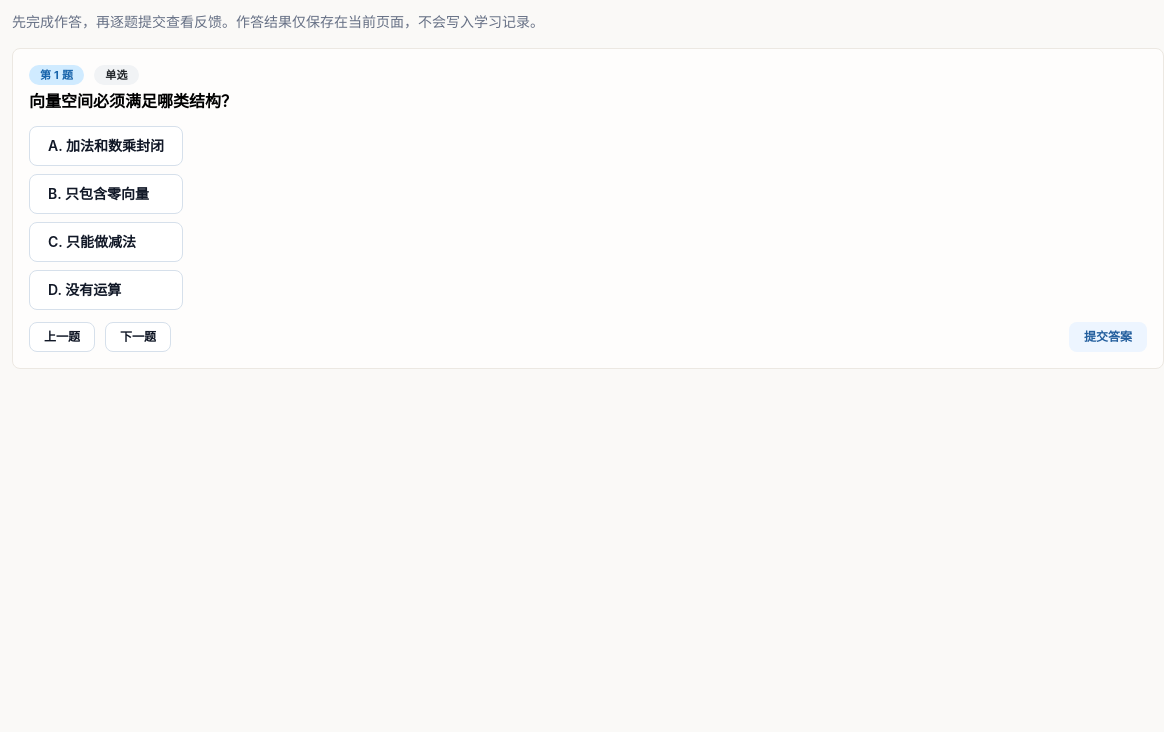
Test: TaskTestResult › hides answers until each question is submitted and scores single choice locally
Expected: the text "正确答案：A" is not shown
Click the button "B. 只包含零向量".
click(106, 194)  # box 29,174 -> 183,214
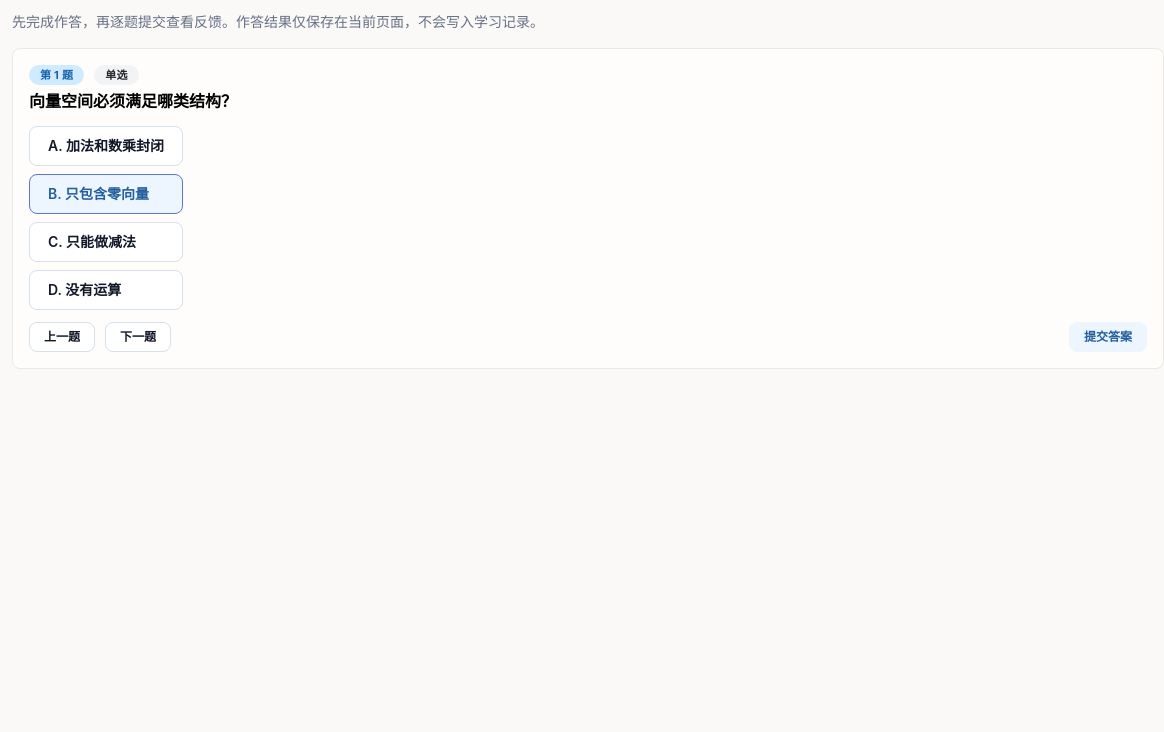
Click the button "提交答案".
click(1108, 337)  # box 1069,322 -> 1147,352
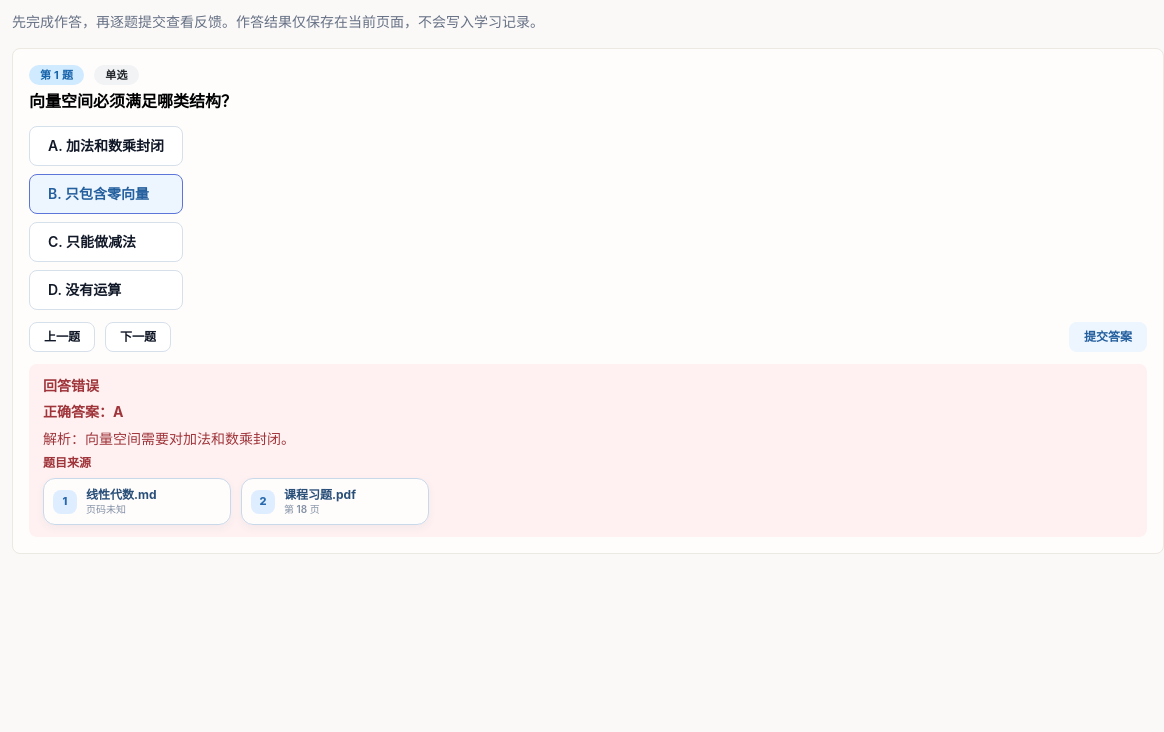
Expected: the text "回答错误" is shown, 43,377 -> 99,394
Expected: the text "正确答案：A" is shown, 43,403 -> 124,420
Expected: the text "解析：向量空间需要对加法和数乘封闭。" is shown, 43,430 -> 295,447
